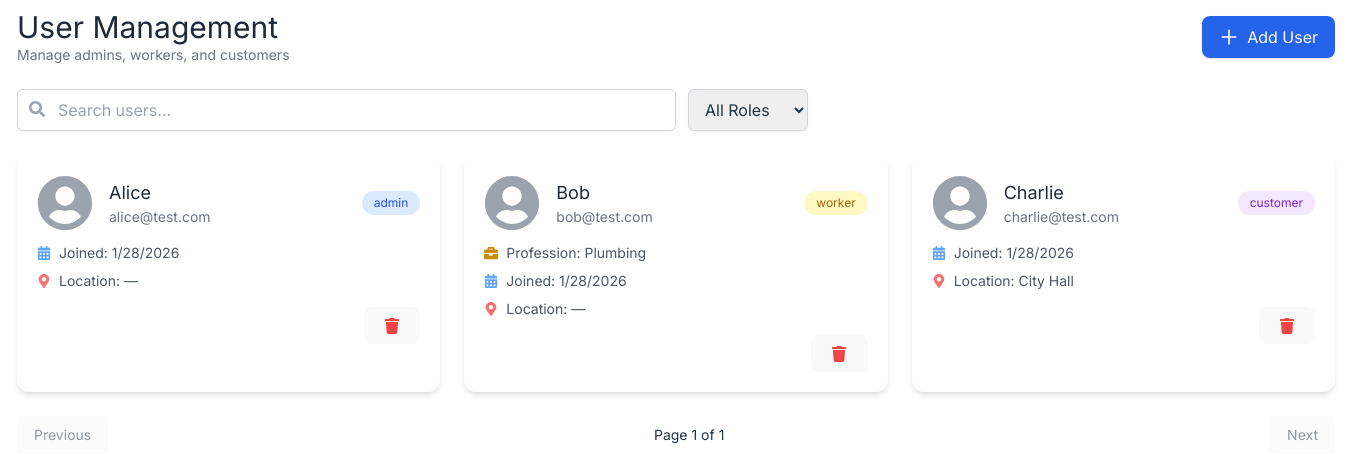
it: AdminUserManagement › filters users by role when dropdown is changed
Check: the heading "Alice" is shown, box x1=109 y1=182 x2=151 y2=203
Check: the heading "Bob" is shown, box x1=556 y1=182 x2=590 y2=203
// Filter by worker
Select "Worker" in the dropdown: (748, 110) x1=688 y1=89 x2=808 y2=131
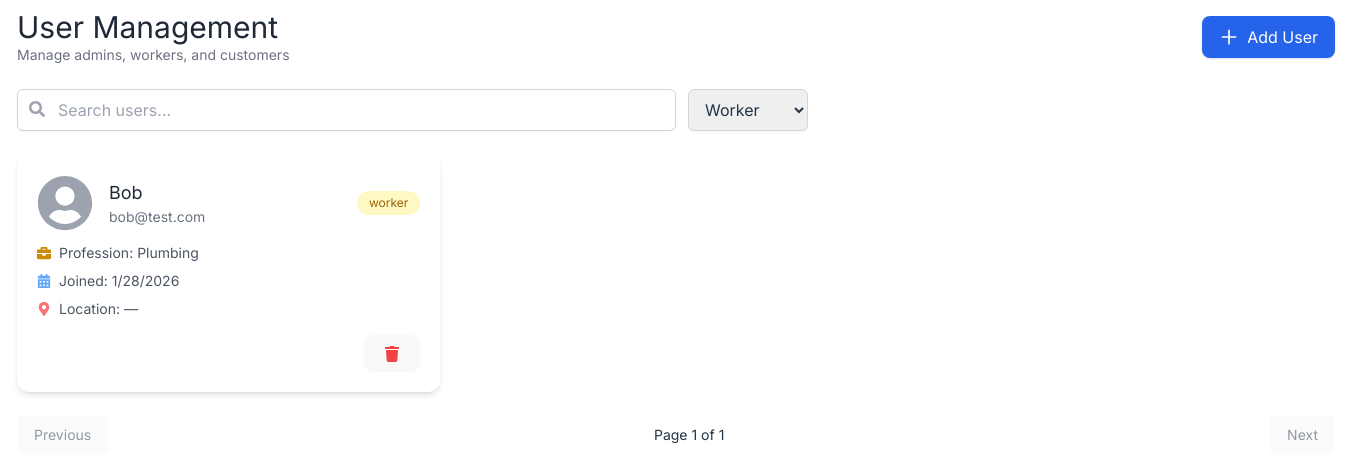
Check: the heading "Bob" is shown, box x1=109 y1=182 x2=143 y2=203
Check: the heading "Alice" is gone
